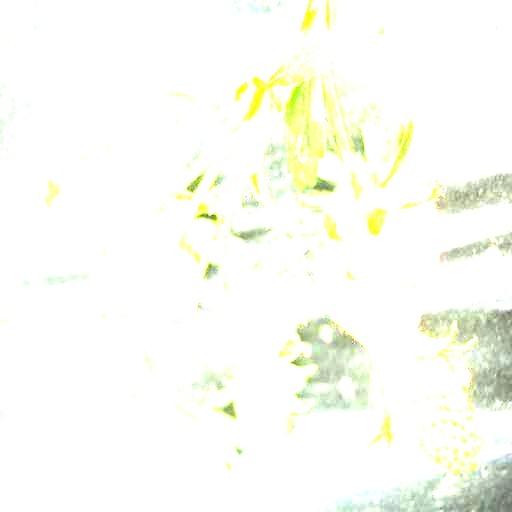Powdery Mildew Fruit: (314, 164, 440, 347), (223, 271, 300, 378)
